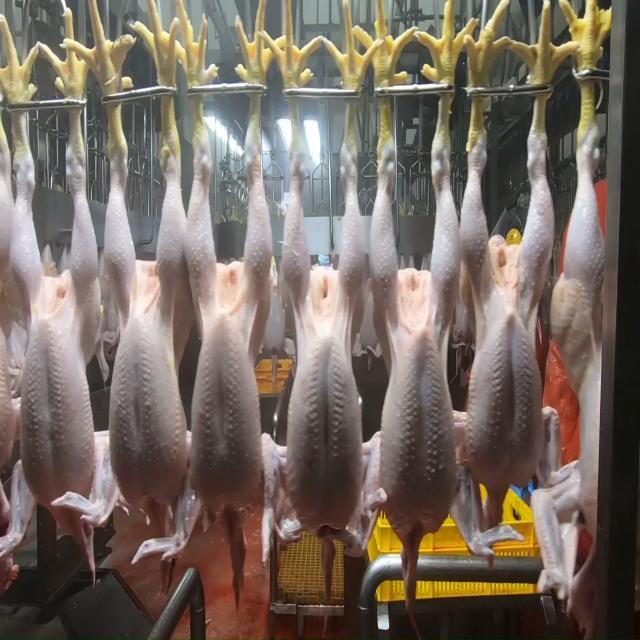chicken: (2, 153, 105, 510), (366, 180, 464, 539), (272, 168, 368, 530), (184, 168, 270, 513), (460, 184, 555, 496), (107, 162, 187, 521)
